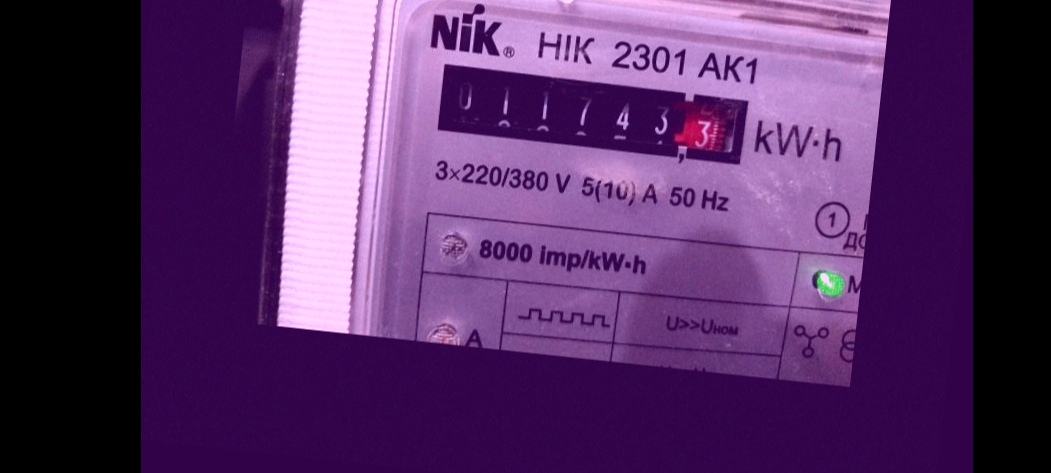0: (454, 76, 476, 113)
1: (536, 85, 555, 121), (500, 81, 513, 115)
3: (649, 100, 672, 137), (692, 117, 713, 152)
4: (613, 97, 633, 132)
7: (574, 91, 595, 127)
screen: (421, 50, 763, 178)
